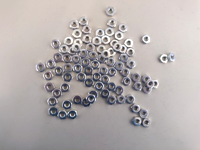nut: (68, 110, 78, 120), (58, 111, 68, 121), (61, 83, 71, 93), (36, 63, 46, 73), (72, 43, 82, 53), (84, 66, 94, 76), (72, 29, 82, 39), (52, 89, 63, 98), (43, 72, 54, 81), (49, 107, 58, 117), (63, 100, 72, 110), (73, 96, 83, 105), (45, 83, 55, 92), (54, 67, 64, 76), (63, 73, 73, 82), (51, 40, 61, 49), (53, 53, 63, 62), (93, 72, 102, 82), (85, 78, 94, 88), (106, 27, 115, 37), (106, 7, 116, 16), (102, 35, 111, 45), (63, 64, 73, 73), (77, 72, 86, 82), (72, 54, 81, 64), (74, 64, 83, 74), (82, 58, 91, 68), (91, 60, 100, 70), (79, 49, 89, 58), (63, 54, 72, 64), (64, 37, 74, 46), (83, 34, 92, 44), (142, 35, 151, 44), (134, 82, 143, 91), (132, 73, 141, 82), (127, 60, 136, 69), (117, 96, 126, 105), (123, 77, 132, 86), (108, 96, 117, 105), (143, 75, 152, 84), (119, 23, 128, 32), (108, 68, 117, 77), (115, 31, 124, 40), (87, 95, 96, 104), (89, 90, 98, 99), (47, 60, 56, 69), (95, 82, 104, 91), (99, 66, 108, 75), (102, 50, 111, 59), (110, 39, 119, 48), (96, 28, 105, 37), (93, 37, 102, 46), (89, 51, 98, 60), (86, 43, 95, 52), (60, 45, 69, 54), (70, 20, 79, 29), (80, 17, 89, 26), (83, 25, 92, 34), (48, 98, 58, 106), (131, 105, 141, 113), (107, 83, 117, 91), (113, 43, 123, 51), (106, 58, 116, 66), (133, 118, 142, 126), (143, 119, 151, 128), (127, 95, 135, 104), (147, 80, 155, 89), (121, 69, 130, 77), (115, 87, 124, 95), (120, 54, 129, 62), (125, 39, 134, 47), (101, 90, 110, 98), (115, 62, 124, 70), (82, 99, 91, 107), (101, 76, 110, 84), (108, 48, 116, 57), (108, 19, 117, 27), (98, 55, 107, 63), (97, 45, 106, 53), (64, 64, 73, 72), (69, 47, 78, 55), (74, 39, 83, 47), (140, 110, 148, 118), (144, 86, 152, 94), (127, 48, 135, 56), (169, 53, 176, 62), (161, 55, 168, 63), (154, 80, 160, 89), (121, 45, 127, 53)
